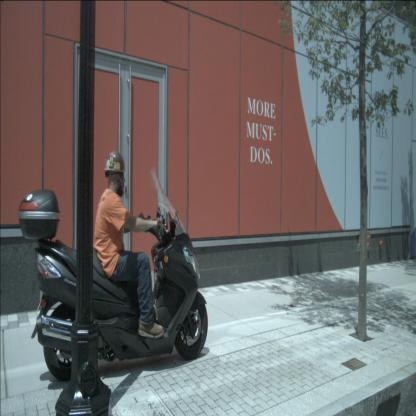vehicle-motorcycle: (18, 150, 208, 382)
